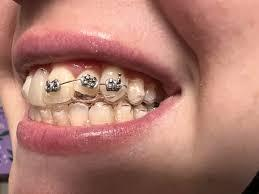Braces: (44, 74, 126, 100)
